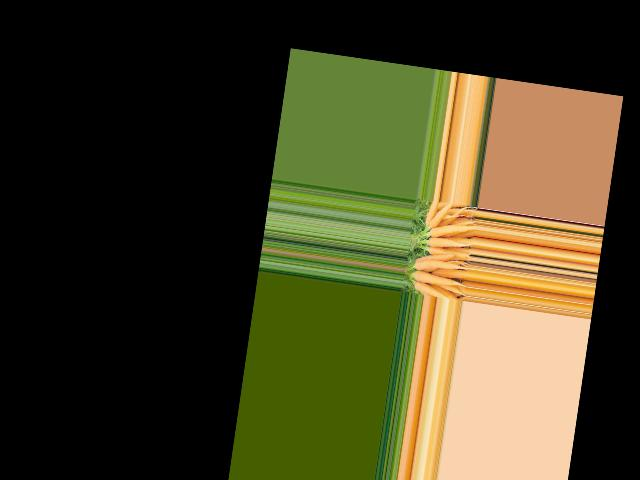carrot: (412, 268, 465, 291)
